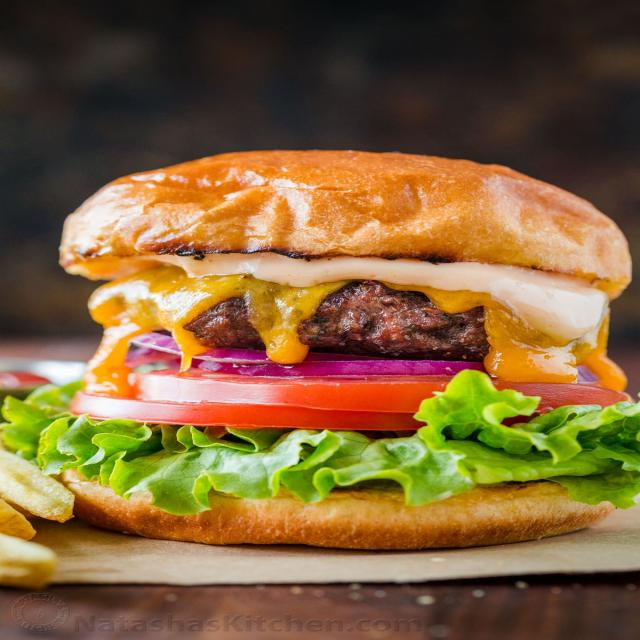burger: (6, 137, 640, 548)
